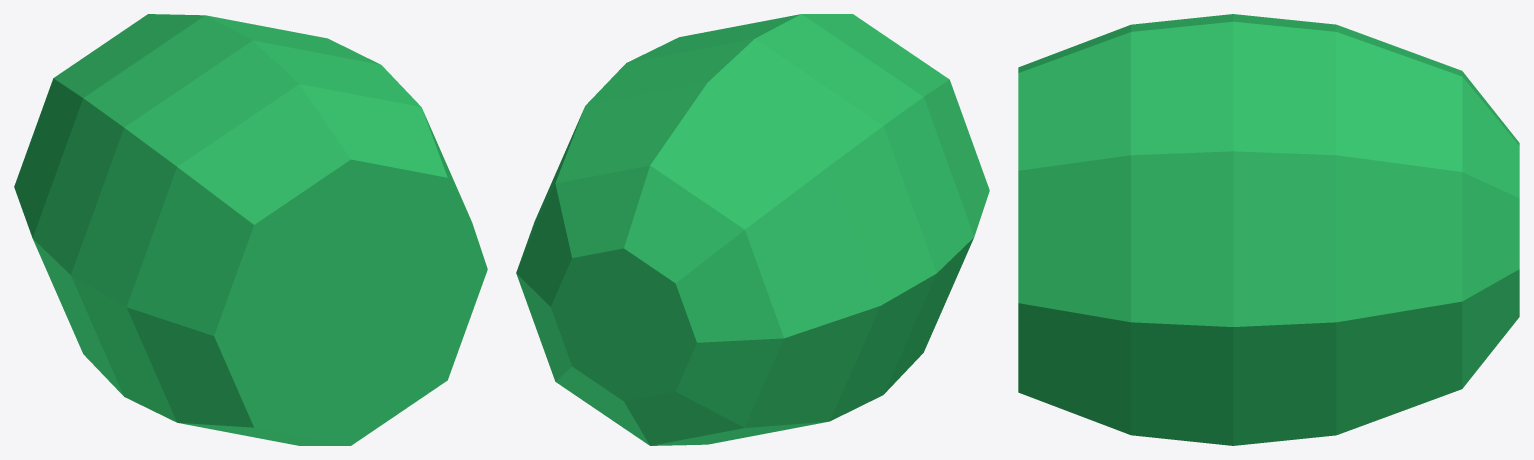
The model's file is SmallCactus_2.fbx.
3 renders of one model, left to right at view 1: azimuth 30°, elevation 25°; view 2: azimuth 150°, elevation 25°; view 3: azimuth 270°, elevation 25°, orthographic. The views are drawn at different scales.
Visible parts, largest first — view 1: SmallCactus_2; view 2: SmallCactus_2; view 3: SmallCactus_2.
Part boxes in pixels (box(x1,y1,x2,y2)): SmallCactus_2: box(14, 14, 487, 445); SmallCactus_2: box(516, 14, 989, 445); SmallCactus_2: box(1018, 14, 1519, 445).
Bounding box in the file's own units: 138 × 138 × 151.
